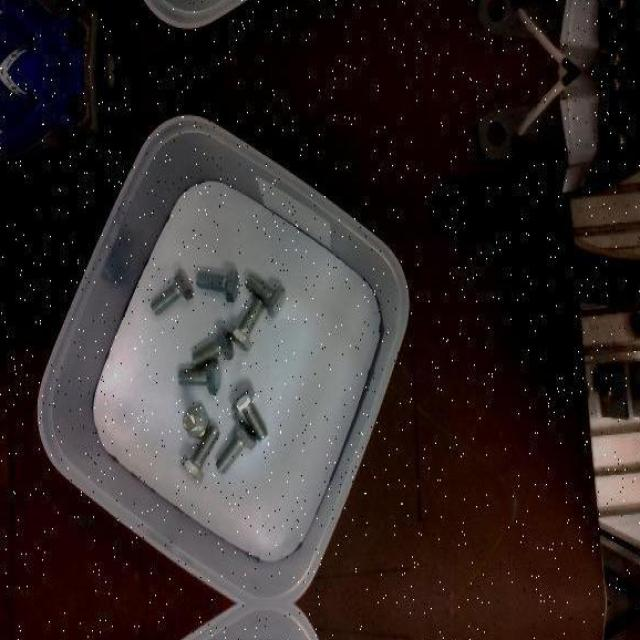screw: (180, 424, 220, 482), (216, 418, 257, 474), (150, 268, 195, 317), (228, 296, 266, 350), (231, 388, 269, 442), (244, 273, 286, 318), (192, 324, 234, 369), (178, 358, 222, 394), (196, 267, 239, 302), (184, 403, 210, 437)
